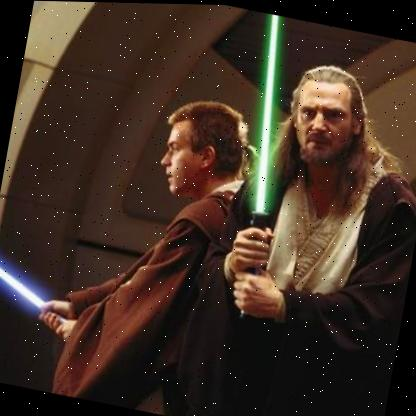lightsaber: (208, 13, 319, 327), (0, 248, 97, 343)
